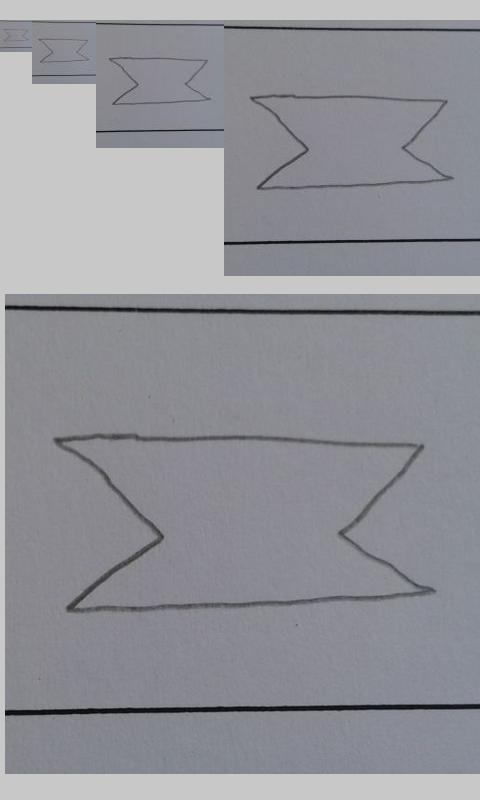edit_text: (53, 429, 430, 618), (251, 94, 453, 191), (107, 55, 209, 106), (39, 38, 89, 63), (3, 28, 28, 42)
